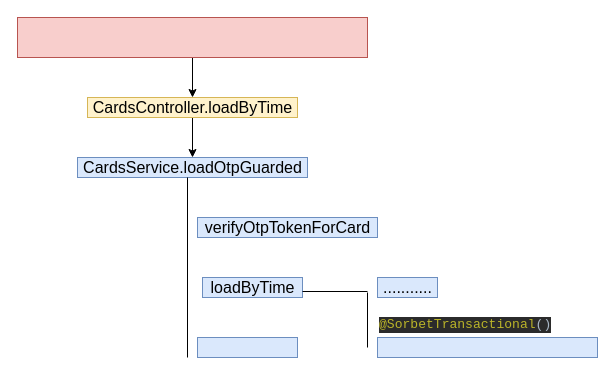
This 615x376 diagram has some shape labels left out. The centre of each missing label's shape, as x and y in pixels:
Cash out POST {{host}} /v1/cards/load/:otpCode: the point at 192,37
getCardPan: the point at 247,347
incrementCardholderBalance: the point at 487,347
